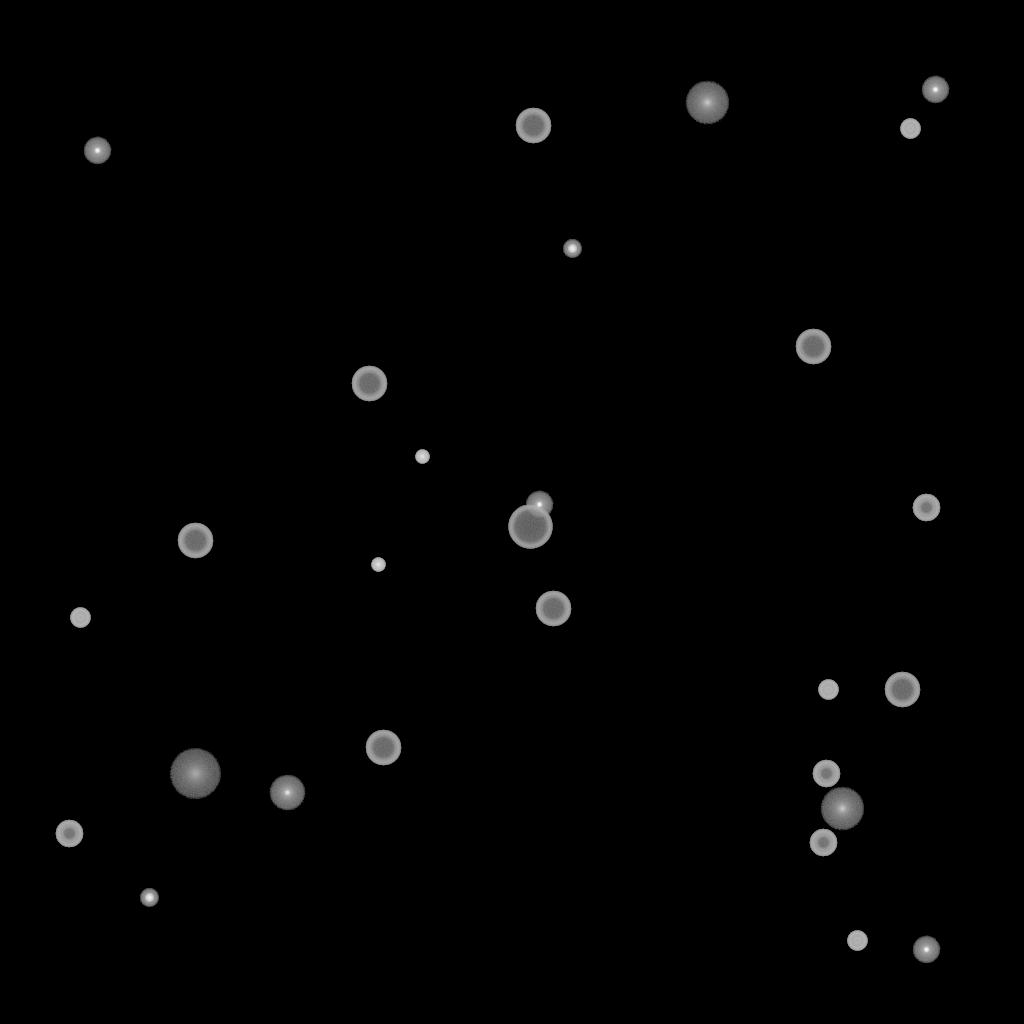depth:-10: (912, 936, 940, 964), (525, 491, 553, 519), (83, 137, 111, 165), (921, 76, 949, 104)
depth:-20: (140, 889, 158, 907), (563, 240, 581, 258)
depth:-30: (371, 558, 385, 572), (415, 450, 429, 464)
depth:-40: (818, 680, 838, 700), (900, 119, 920, 139), (847, 931, 867, 951), (70, 608, 90, 628)
depth:-50: (812, 760, 840, 788), (912, 494, 940, 522), (809, 829, 837, 857), (55, 820, 83, 848)
depth:-60: (177, 523, 213, 559), (351, 366, 387, 402), (884, 672, 920, 708), (795, 329, 831, 365), (535, 591, 571, 627), (365, 730, 401, 766), (515, 108, 551, 144)
depth:-70: (508, 505, 552, 549)
depth:0: (269, 775, 305, 811)
depth:10: (685, 81, 729, 125), (820, 787, 864, 831)
depth:20: (169, 749, 221, 799)
